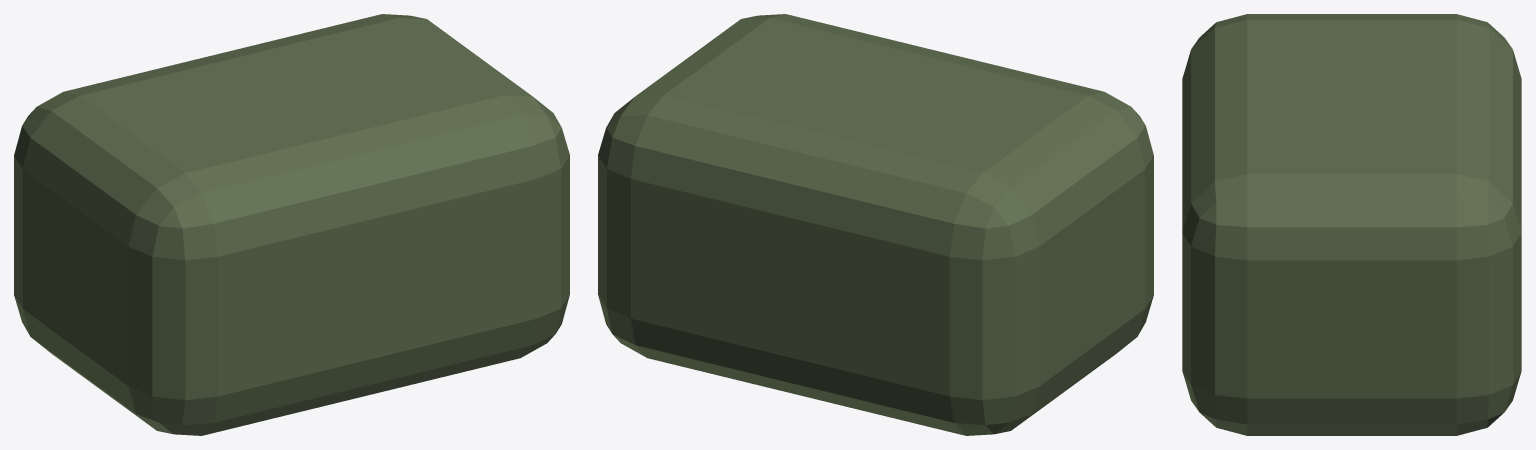
File: soldier_pelvis.glb
The picture shows the model from 3 angles, left to right: view 1: azimuth 30°, elevation 25°; view 2: azimuth 150°, elevation 25°; view 3: azimuth 270°, elevation 25°; orthographic projection.
Visible parts, largest first — view 1: soldier_pelvis; view 2: soldier_pelvis; view 3: soldier_pelvis.
Boxes of the visible parts, x1,y1,x2,y2 form: soldier_pelvis: [14, 14, 569, 435]; soldier_pelvis: [598, 14, 1153, 435]; soldier_pelvis: [1182, 14, 1521, 435].
Bounding box in the file's own units: 0.35 × 0.2 × 0.24.
